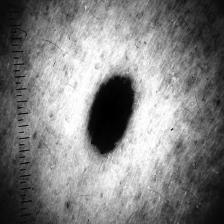Benign Marking or Mole: (87, 74, 135, 156)
